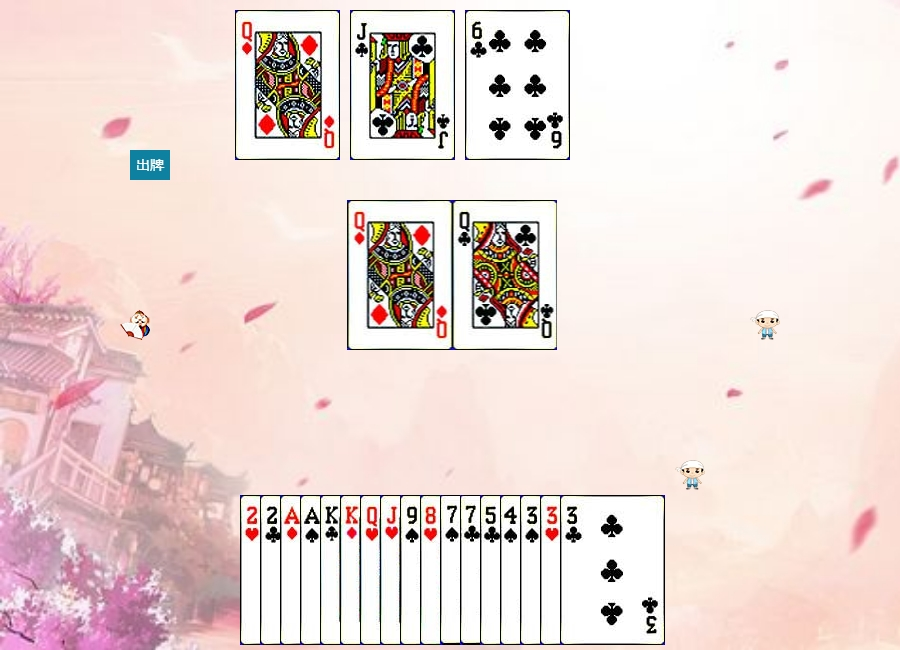11~2: (350, 10, 455, 160)
11~3: (380, 495, 485, 645)
12~1: (235, 10, 340, 160), (348, 200, 453, 350)
12~2: (453, 200, 558, 350)
12~3: (360, 495, 465, 645)
13~1: (340, 495, 445, 645)
13~2: (320, 495, 425, 645)
14~1: (280, 495, 385, 645)
14~4: (300, 495, 405, 645)
15~2: (260, 495, 365, 645)
15~3: (240, 495, 345, 645)
3~2: (560, 495, 665, 645)
3~3: (540, 495, 645, 645)
3~4: (520, 495, 625, 645)
4~4: (500, 495, 605, 645)
5~2: (480, 495, 585, 645)
6~2: (465, 10, 570, 160)
7~2: (460, 495, 565, 645)
7~4: (440, 495, 545, 645)
8~3: (420, 495, 525, 645)
9~4: (400, 495, 505, 645)
